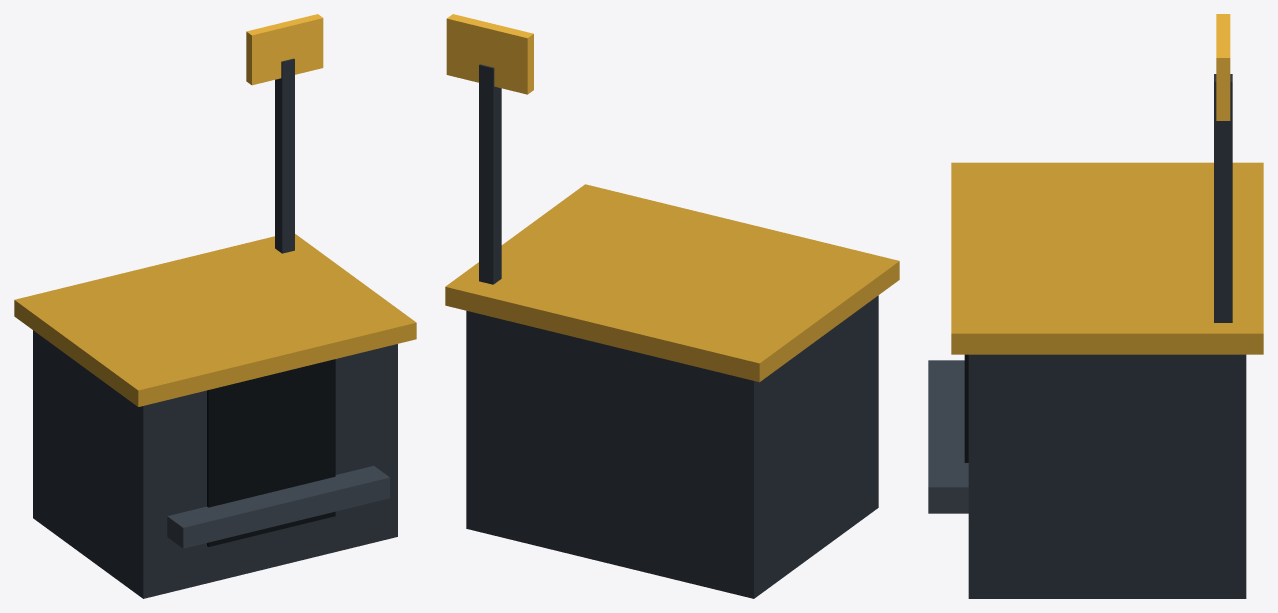
The model's file is desktop.glb.
3 renders of one model, left to right at view 1: azimuth 30°, elevation 25°; view 2: azimuth 150°, elevation 25°; view 3: azimuth 270°, elevation 25°, orthographic. The views are drawn at different scales.
Visible parts, largest first — view 1: transit-entrance; view 2: transit-entrance; view 3: transit-entrance.
Part boxes in pixels (left/top/right/bottom): transit-entrance: left=14, top=14, right=416, bottom=598; transit-entrance: left=445, top=14, right=899, bottom=598; transit-entrance: left=928, top=14, right=1263, bottom=598.
Size of the model in its own units: 3.65 by 5.3 by 2.9.
